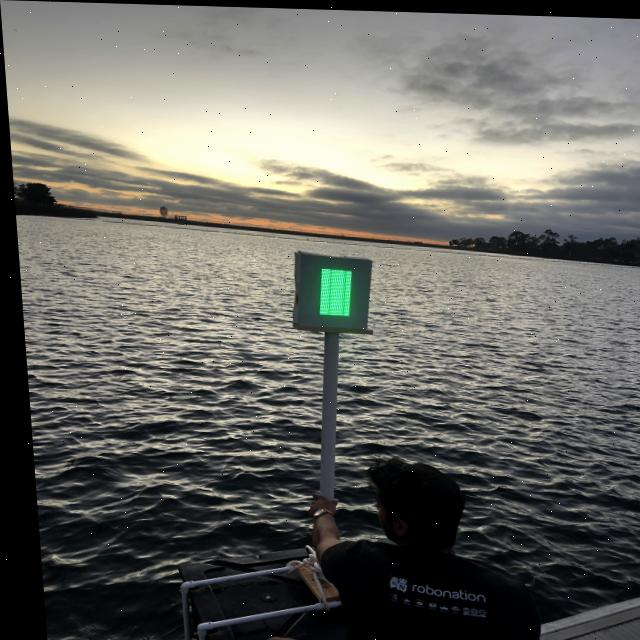led: (296, 254, 365, 328)
